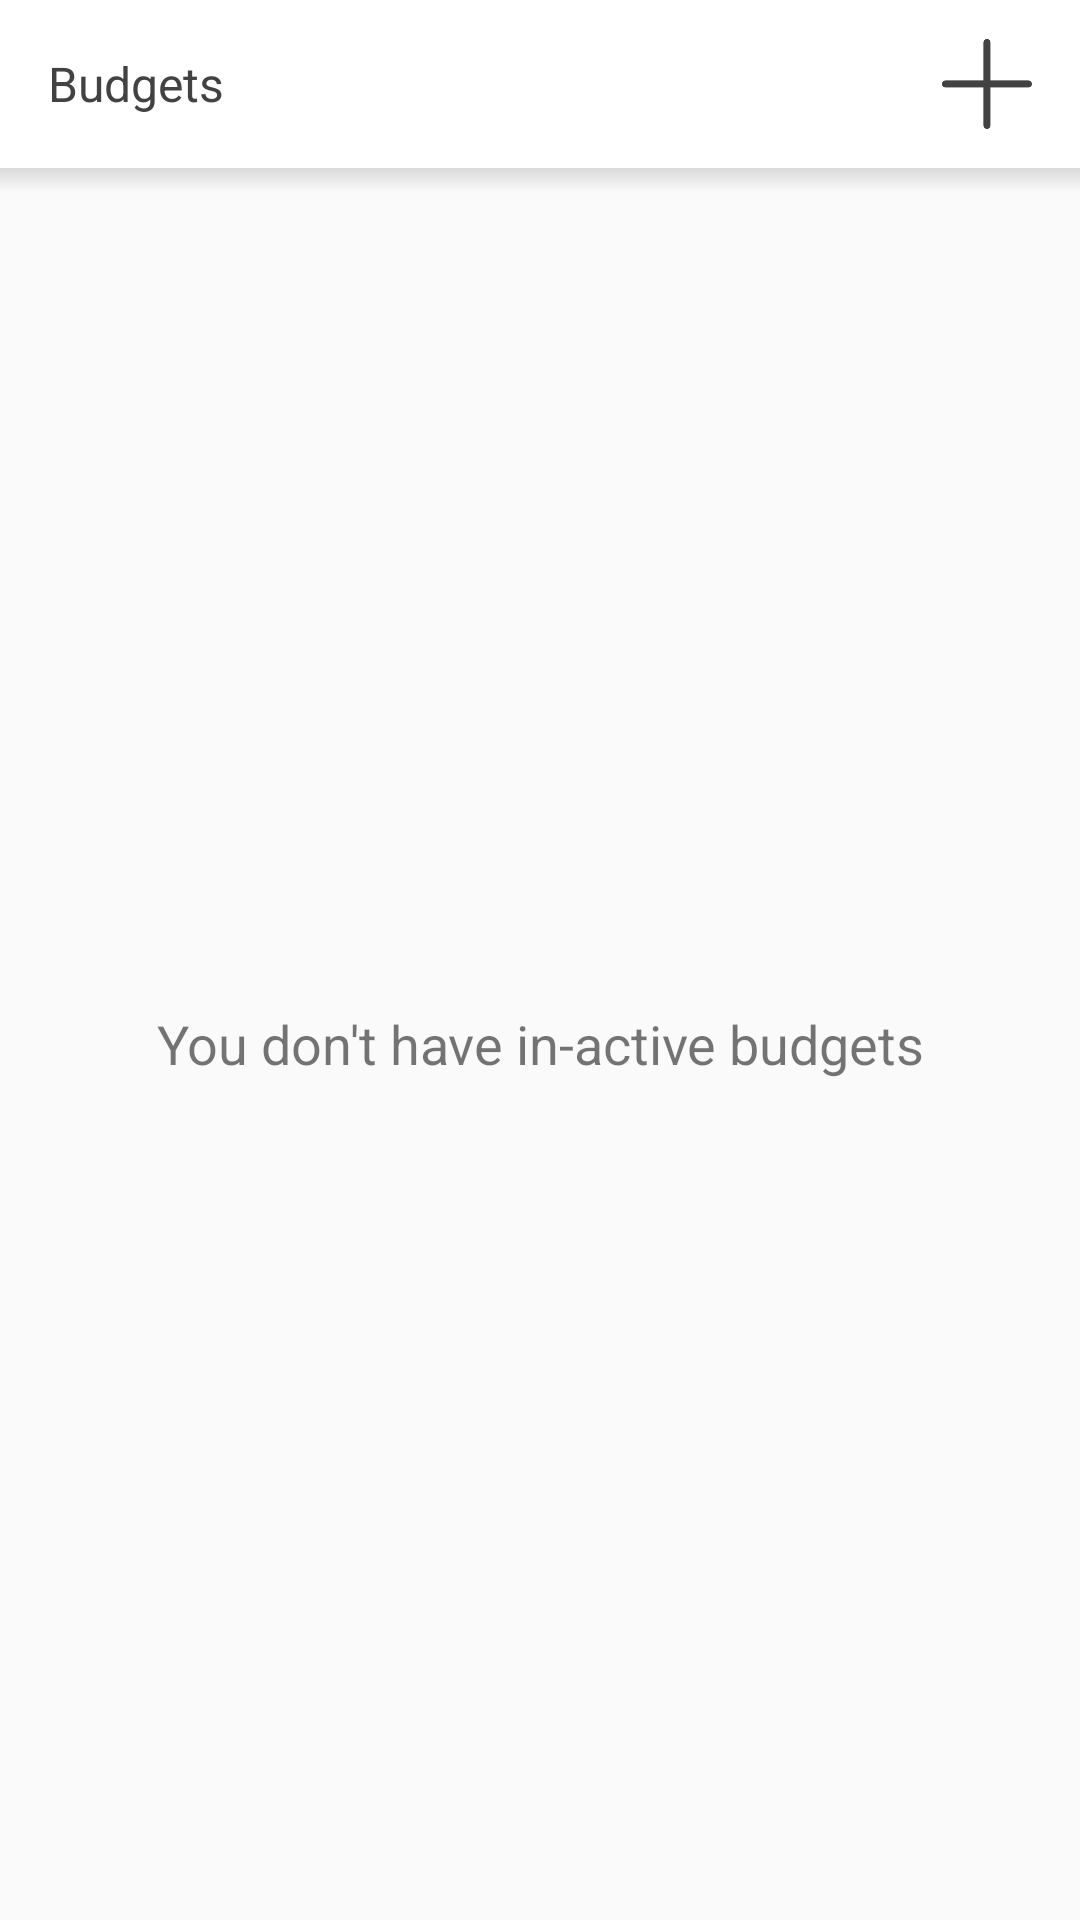

Named icons in this screenshot (1080x1920) and their centers, (x=x, y=y):
plus: (x=987, y=84)
